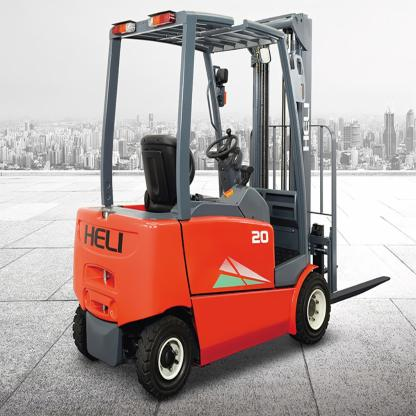forklift: (71, 9, 339, 400)
